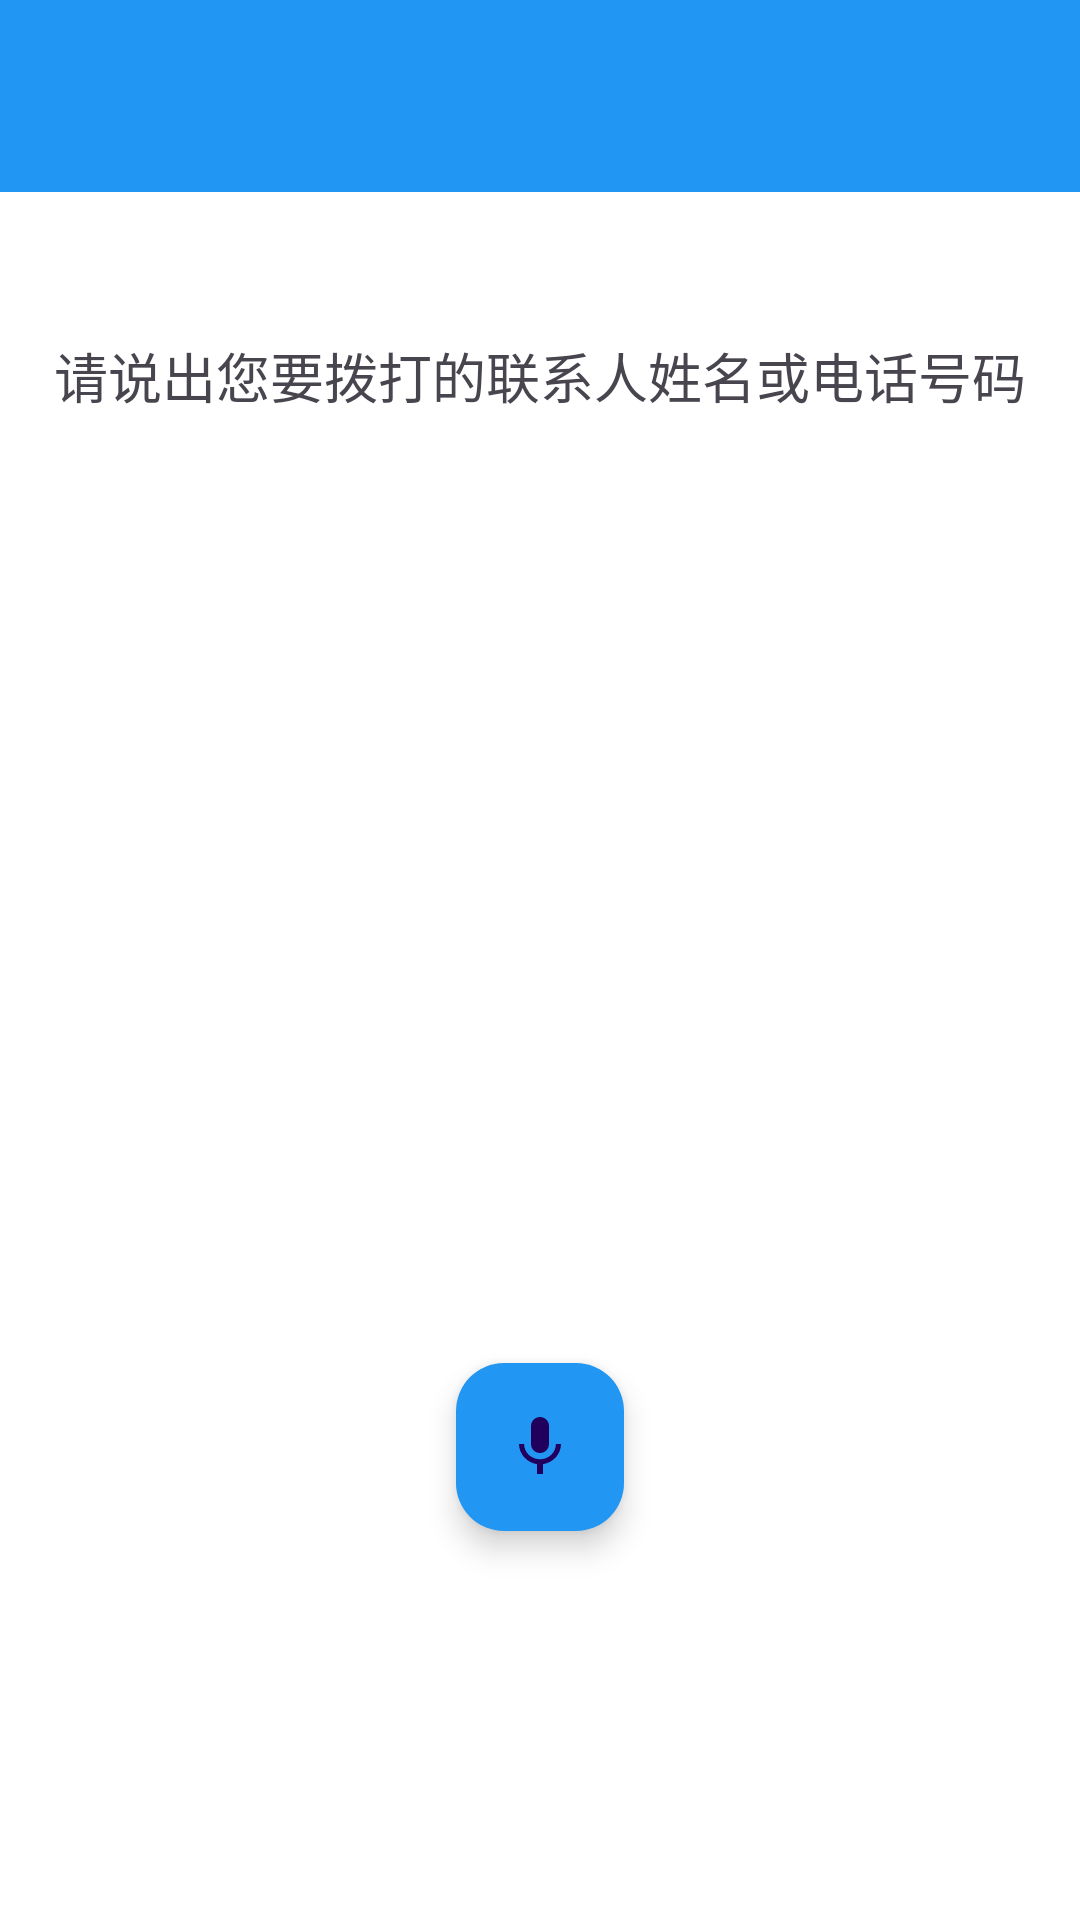

Icon bounding boxes for this 1080 x 1920 phone screenshot, format (left=x1, top=y1, right=x2, bottom=y2):
语音识别: (left=456, top=1363, right=624, bottom=1531)
